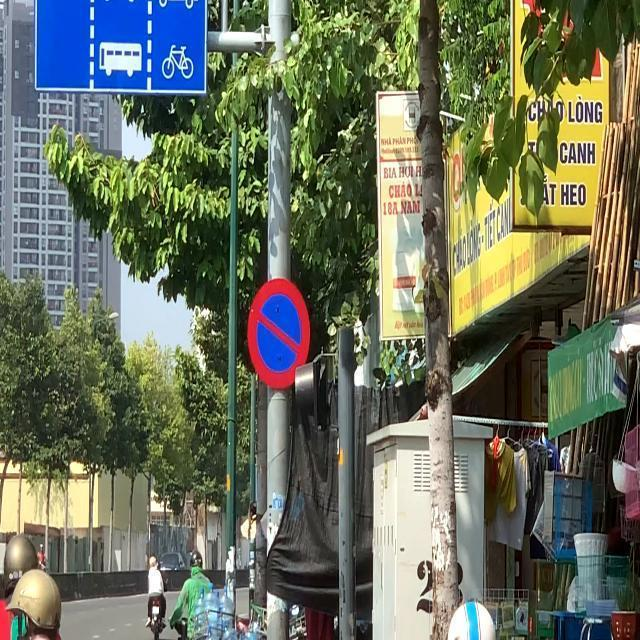131a-cam-do-xe: (247, 278, 310, 386)
